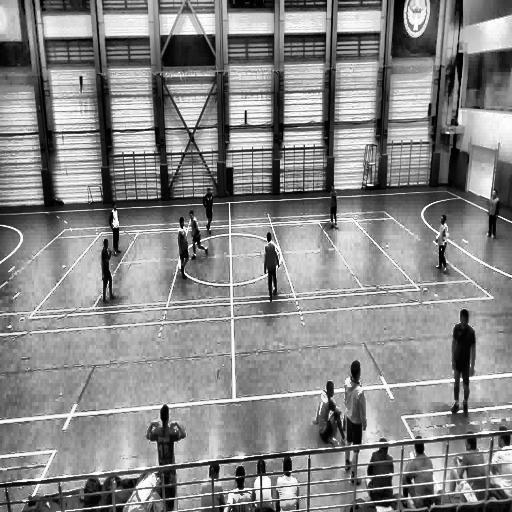ball: (272, 286, 278, 298)
player: (147, 404, 186, 508), (342, 359, 366, 483), (450, 310, 476, 414), (264, 232, 280, 300), (188, 210, 208, 262), (101, 238, 116, 302), (108, 201, 124, 258), (177, 217, 190, 280), (435, 214, 448, 272), (486, 188, 499, 240), (203, 187, 214, 235), (328, 183, 337, 228)
